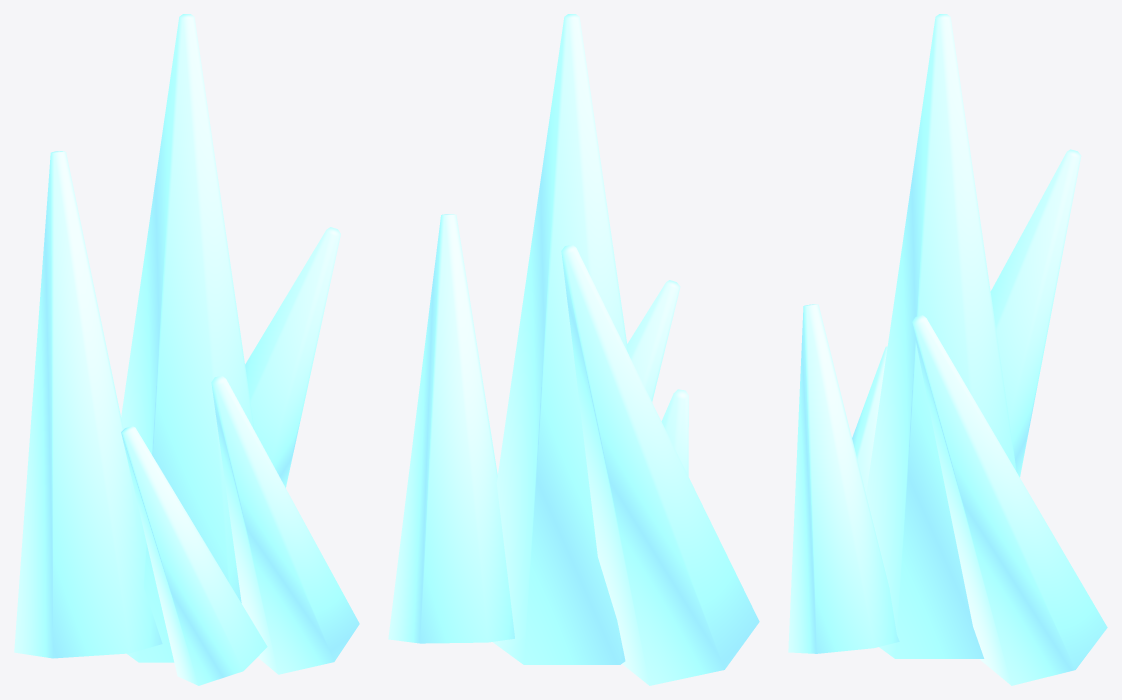
Rendered from crystal_blue.glb.
3 views of the same model, side by side, from view 1: azimuth 30°, elevation 25°; view 2: azimuth 150°, elevation 25°; view 3: azimuth 270°, elevation 25° (orthographic).
Parts seen in each view (by area): view 1: CrystalBlue; view 2: CrystalBlue; view 3: CrystalBlue.
Boxes of the visible parts, bbox=[...] form: CrystalBlue: bbox=[14, 14, 359, 685]; CrystalBlue: bbox=[388, 14, 759, 685]; CrystalBlue: bbox=[788, 14, 1107, 685].
Size of the model in its own units: 1.82 by 3.55 by 1.67.
